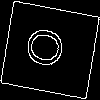O: (25, 25, 73, 71)
